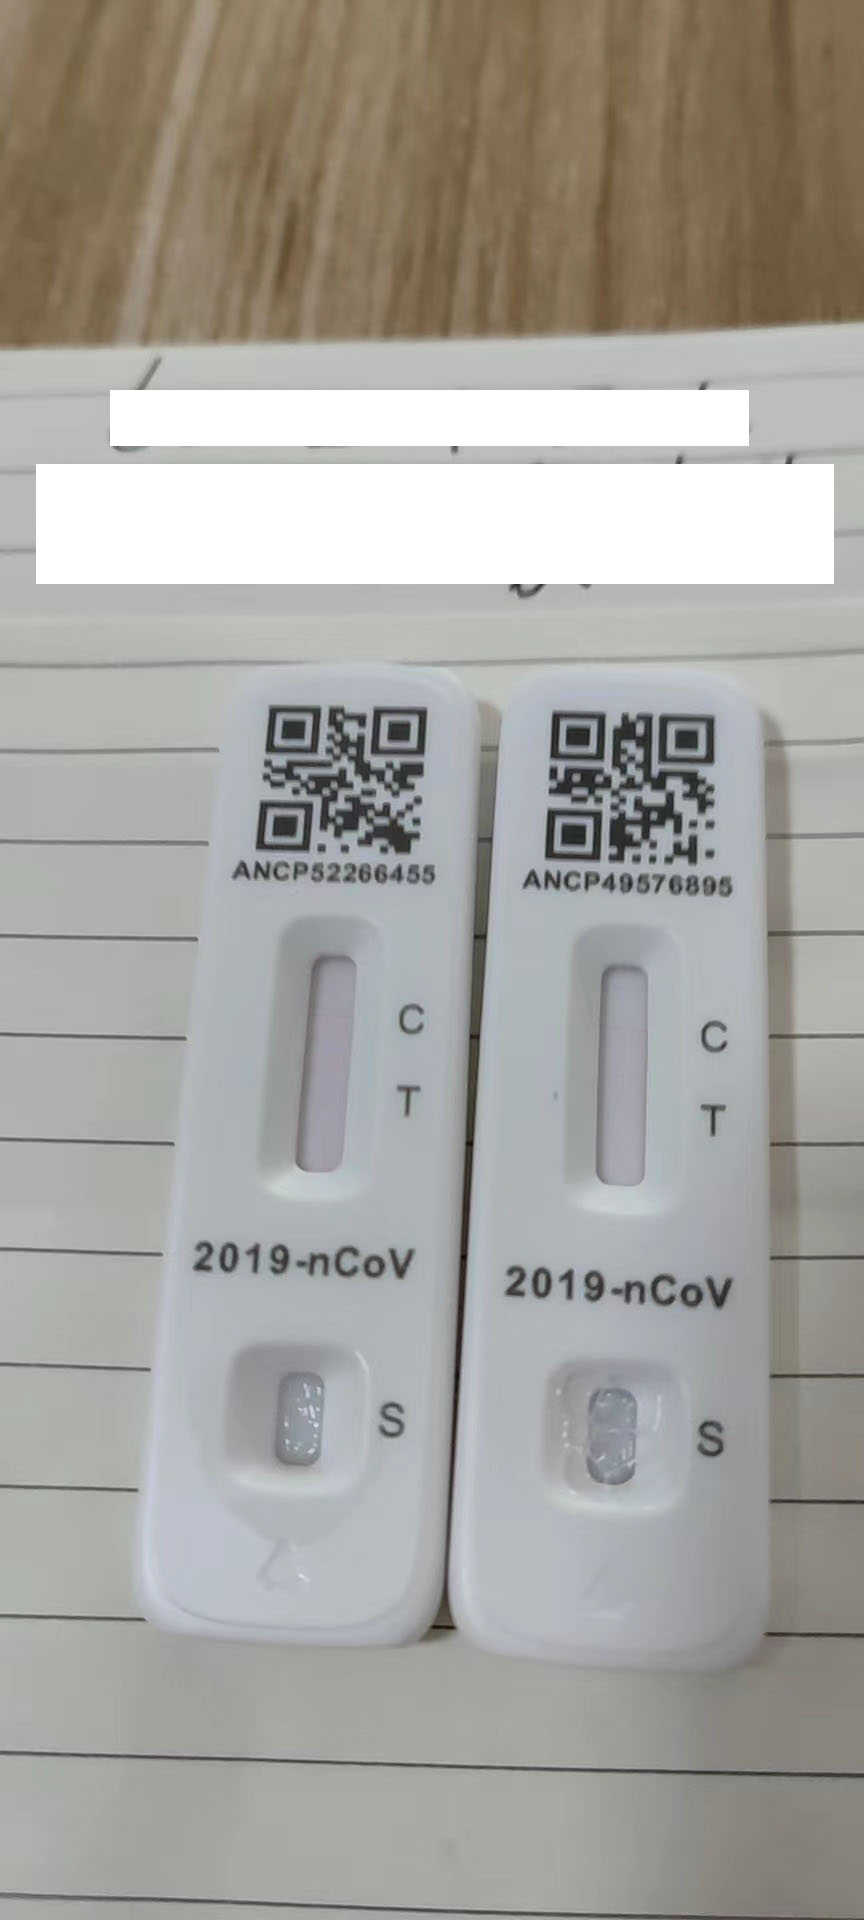Invalid: (575, 938, 677, 1215), (270, 927, 365, 1189)
